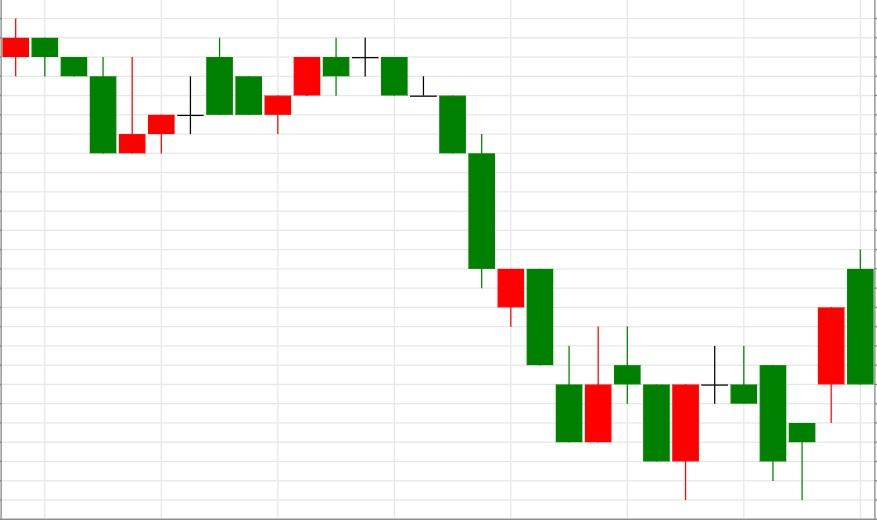bullish_engulfing_rise: (351, 37, 612, 444)
inverse_hammer_rise: (0, 17, 146, 156)
